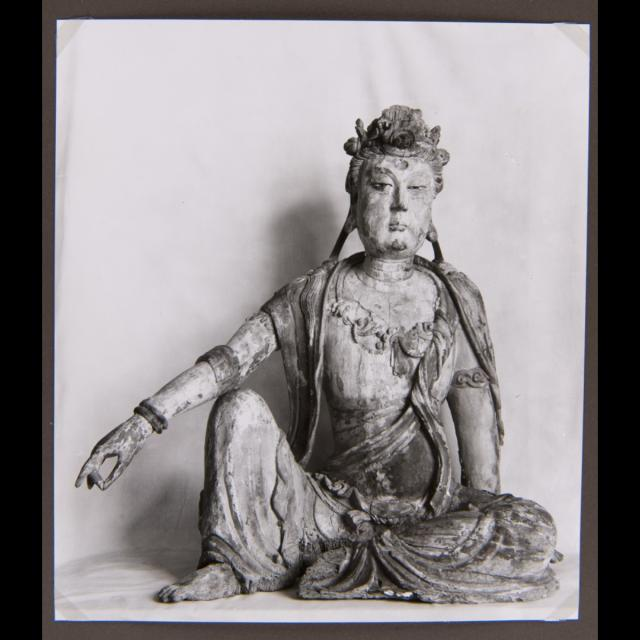buddha-sitting: (70, 78, 569, 604)
